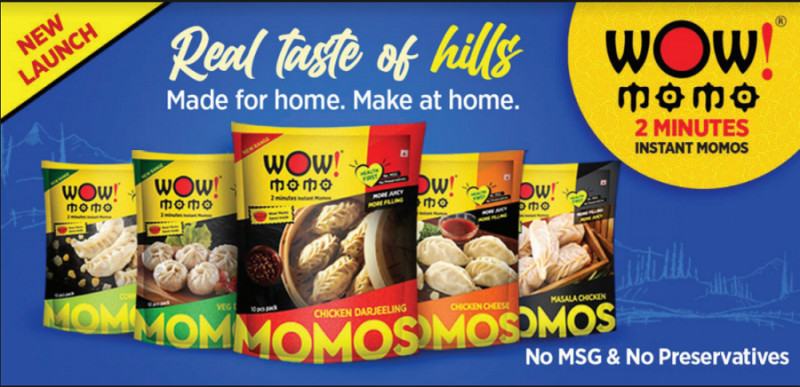Headline: (156, 15, 537, 113)
Product: (33, 119, 625, 365)
logo: (583, 6, 795, 163), (261, 145, 346, 194), (154, 172, 226, 215), (58, 182, 125, 217)
